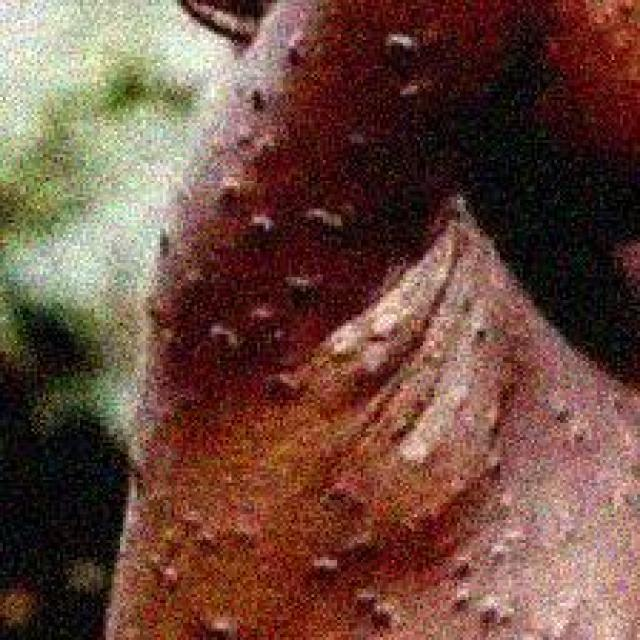monkeypox: (102, 18, 640, 640)
